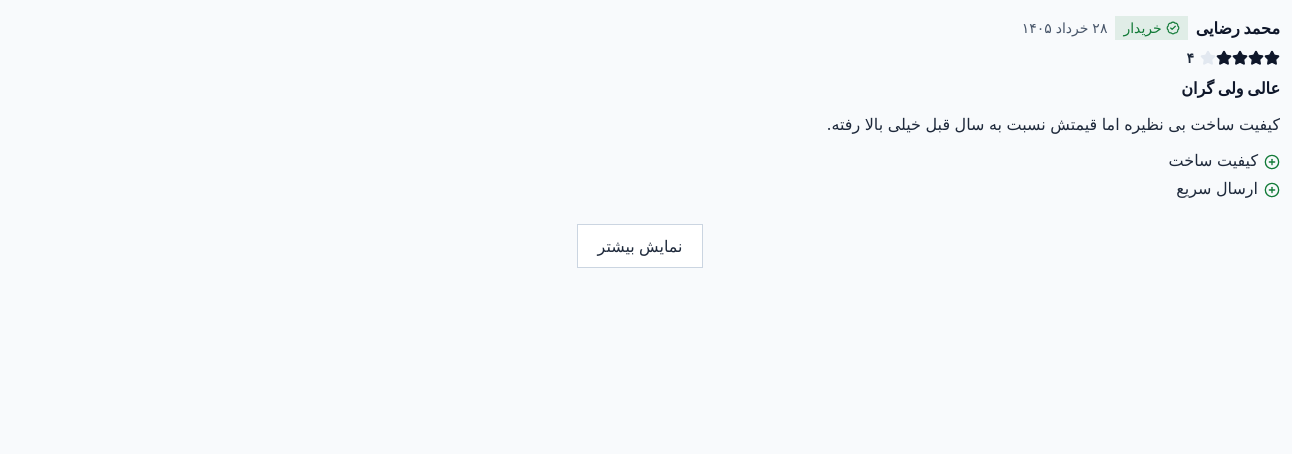
Scenario: CommentList seeded with the server page › loads later pages through the BFF with «نمایش بیشتر»
The image size is (1292, 454).
Step 1. Click the button "نمایش بیشتر" → point(640, 246), box [576,224,703,268]
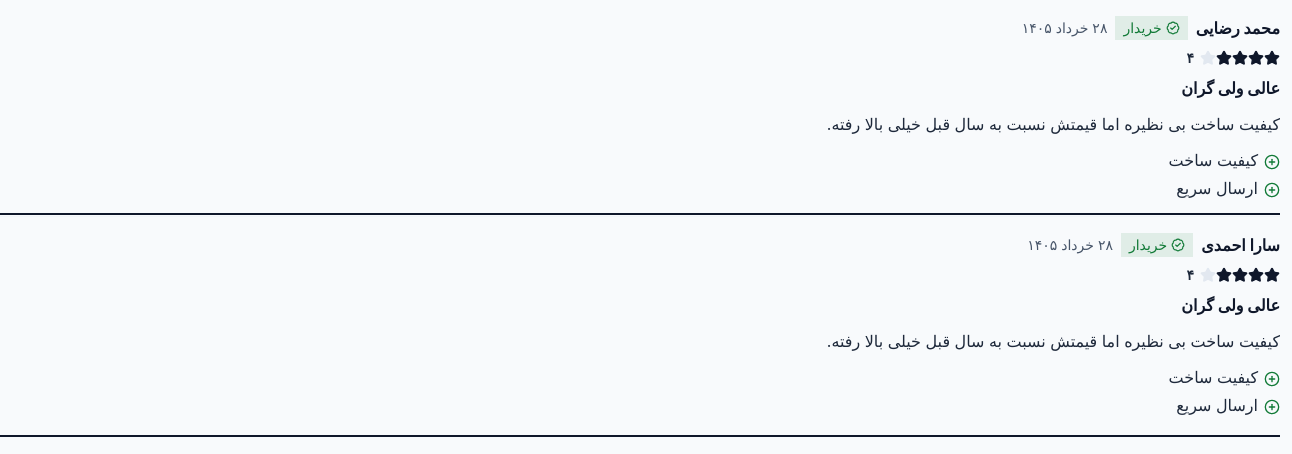
Result: the text "سارا احمدی" is shown at [1201,233,1280,257]
